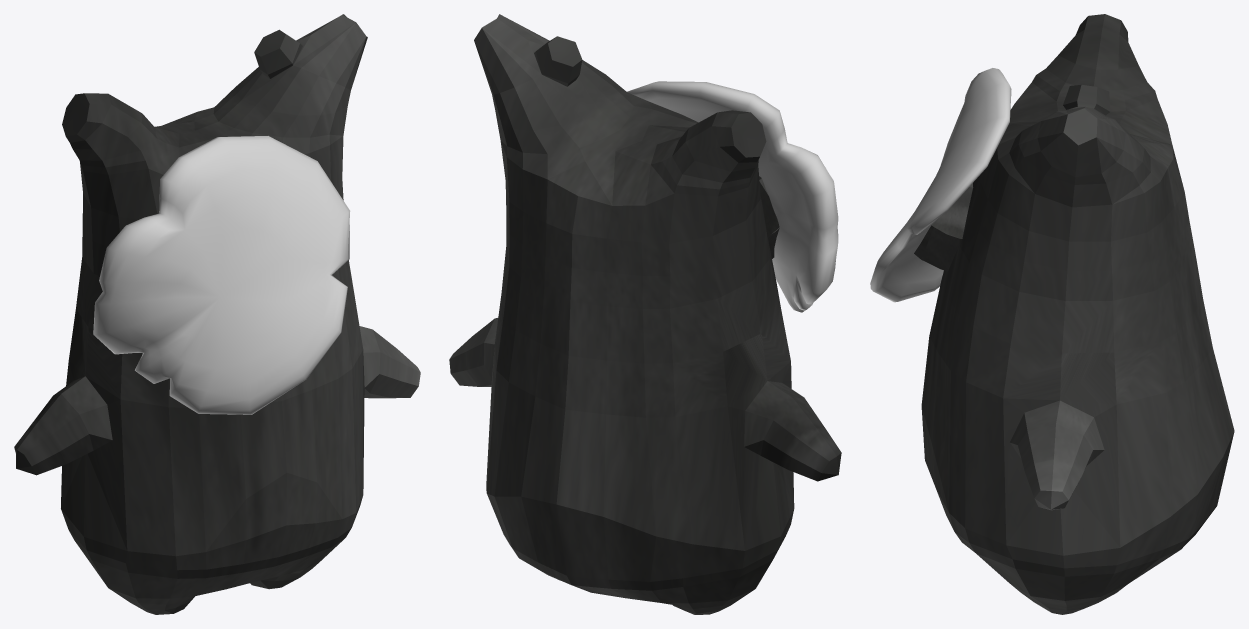
Rendered from frame_0087.obj.
The picture shows the model from 3 angles, left to right: view 1: azimuth 30°, elevation 25°; view 2: azimuth 150°, elevation 25°; view 3: azimuth 270°, elevation 25°; orthographic projection. The views are drawn at different scales.
Visible parts, largest first — view 1: korok, leaf; view 2: korok, leaf, nose; view 3: korok, leaf, nose.
Part boxes in pixels (left/top/right/bottom): korok: left=14, top=14, right=420, bottom=614; leaf: left=93, top=136, right=350, bottom=414; korok: left=449, top=14, right=841, bottom=614; leaf: left=627, top=81, right=838, bottom=312; nose: left=759, top=176, right=779, bottom=258; korok: left=921, top=14, right=1234, bottom=614; leaf: left=870, top=68, right=1011, bottom=302; nose: left=914, top=183, right=973, bottom=271.
Size of the model in its own units: 1.68 by 2.23 by 1.36.
